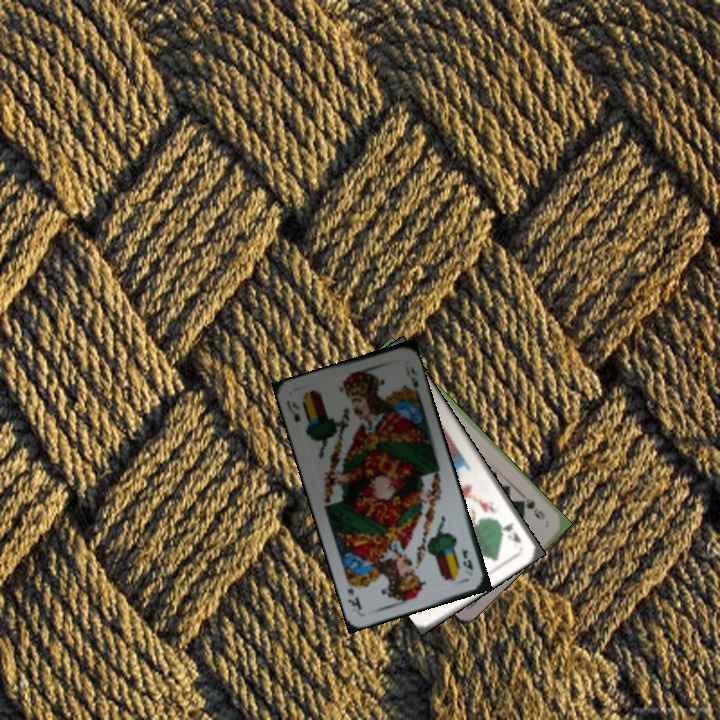EK: (282, 396, 303, 425), (458, 545, 476, 573)
G9: (517, 494, 548, 522)
GK: (499, 518, 525, 547)
